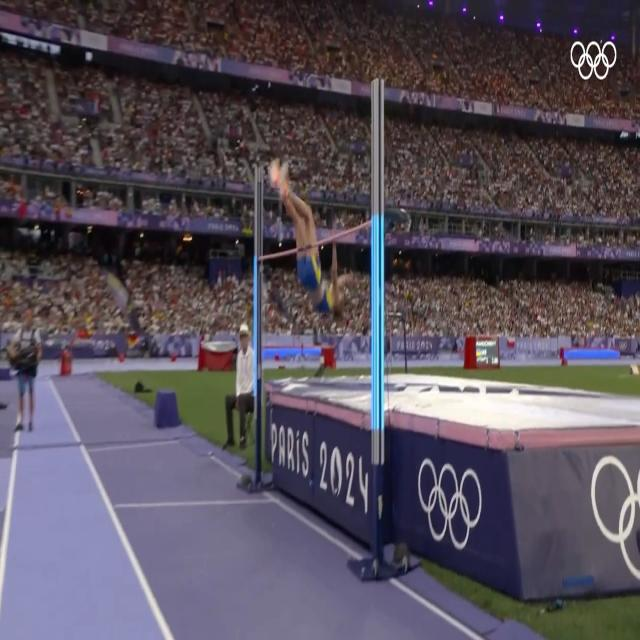land: (266, 155, 355, 320)
